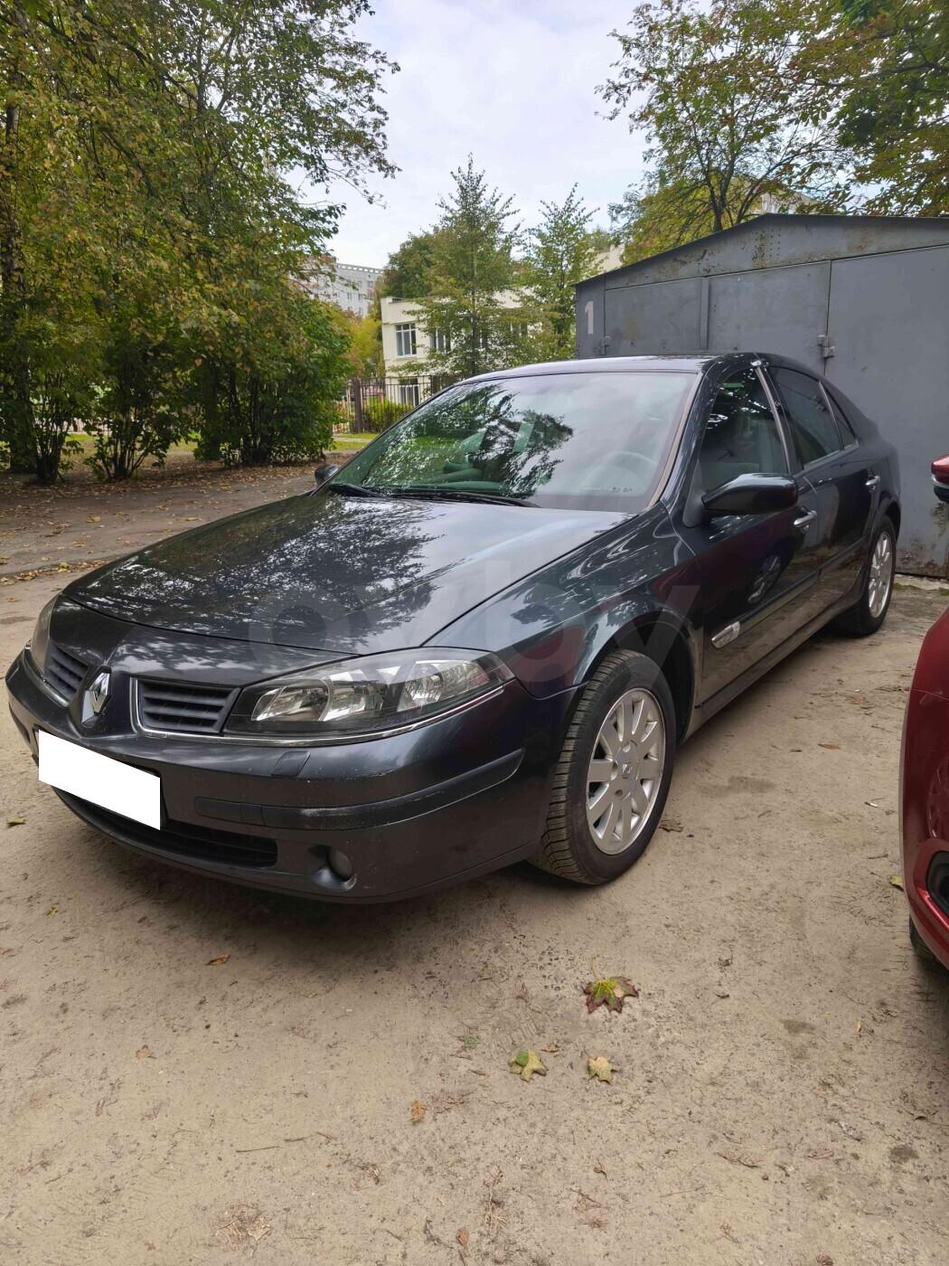Laguna_2005-2007: (7, 351, 918, 931)
